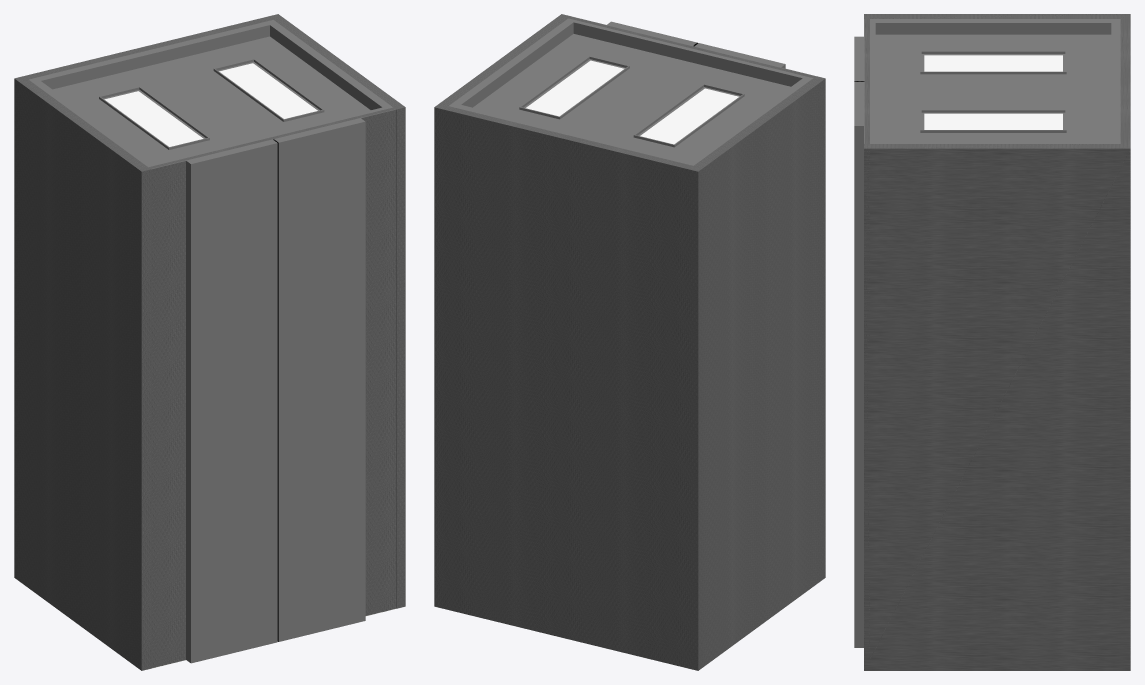
File: mdl-elevator.glb
3 renders of one model, left to right at view 1: azimuth 30°, elevation 25°; view 2: azimuth 150°, elevation 25°; view 3: azimuth 270°, elevation 25°, orthographic. The views are drawn at different scales.
Parts seen in each view (by area): view 1: Rectangle001, Box003, Box002, Line001, Plane002, Cylinder027; view 2: Rectangle001, Plane002, Line001; view 3: Rectangle001, Plane002, Box002, Line001, Box003.
Part boxes in pixels (x1,y1,x2,y2): Rectangle001: (14, 14, 405, 670); Box003: (186, 139, 277, 663); Box002: (274, 118, 365, 641); Line001: (139, 105, 404, 668); Plane002: (29, 20, 395, 169); Cylinder027: (274, 139, 278, 641); Rectangle001: (434, 14, 825, 670); Plane002: (449, 16, 815, 165); Line001: (559, 14, 825, 579); Rectangle001: (864, 14, 1130, 670); Plane002: (864, 19, 1120, 143); Box002: (854, 81, 864, 647); Line001: (864, 14, 869, 670); Box003: (854, 36, 864, 80).
Size of the model in its own units: 1.22 by 2.2 by 1.06.
Materials: 14 (2 with a texture image).
